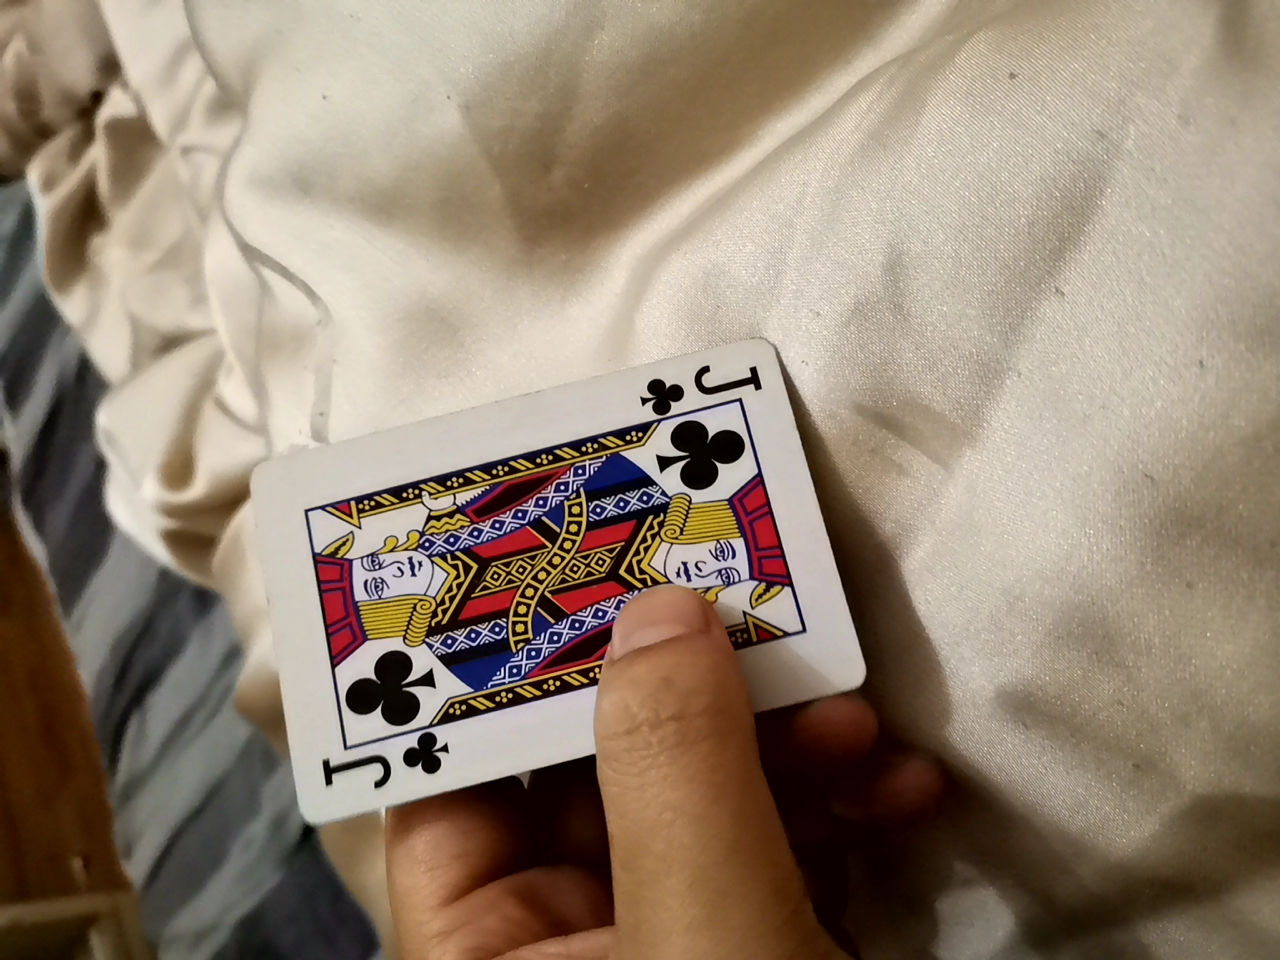mh j: (244, 366, 836, 830)
